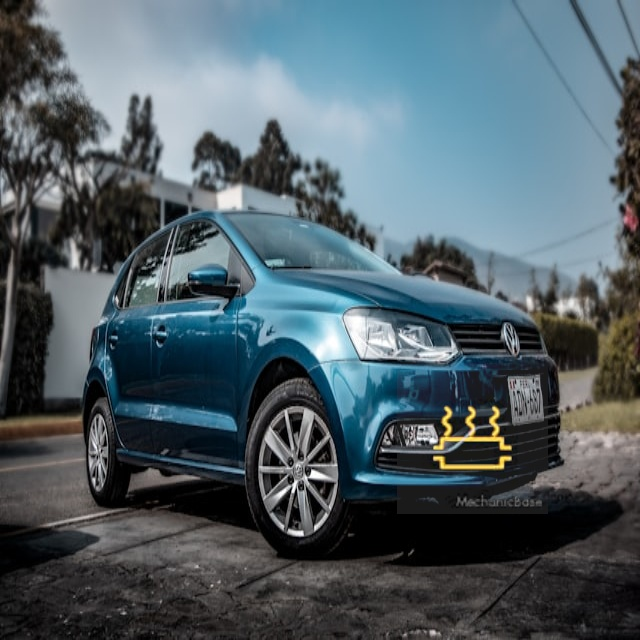symbol: (397, 363, 548, 514)
